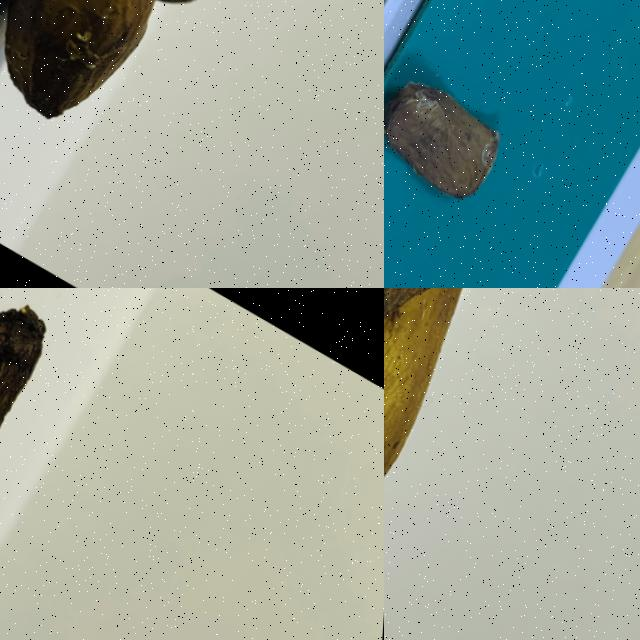Agglomerated_cocoabeans: (0, 0, 383, 241), (384, 288, 616, 639)
Flat_cocoabeans: (384, 3, 571, 287), (0, 288, 110, 639)
